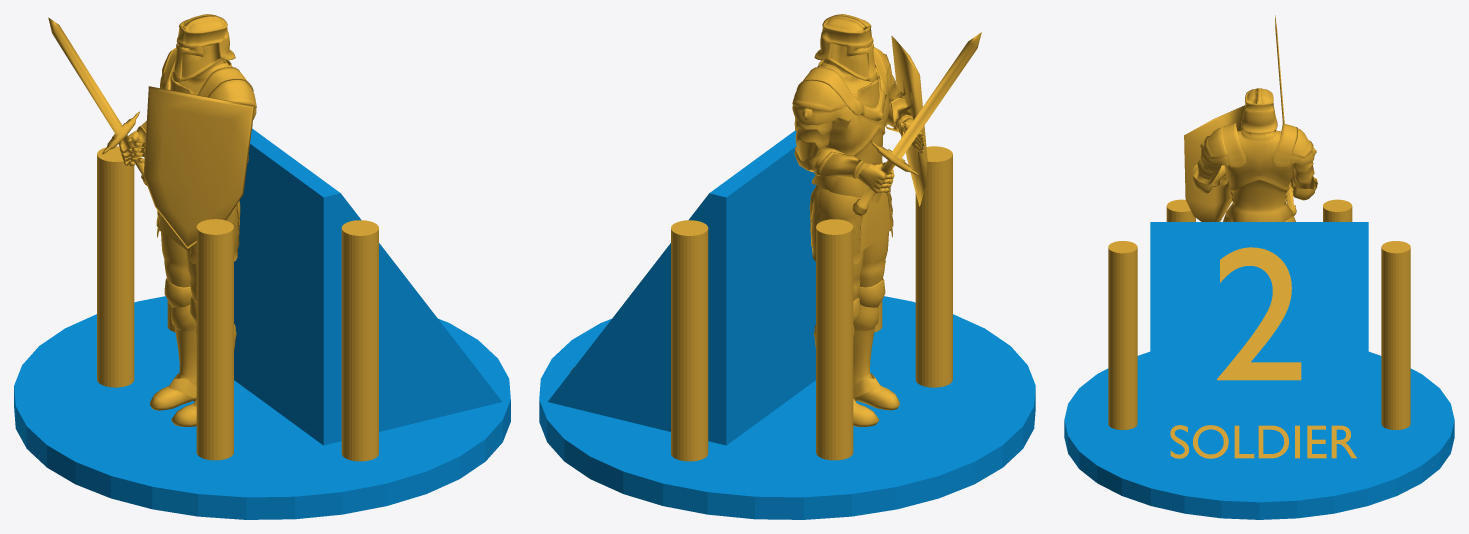
Rendered from TCSoldier2.fbx.
3 views of the same model, side by side, from view 1: azimuth 30°, elevation 25°; view 2: azimuth 150°, elevation 25°; view 3: azimuth 270°, elevation 25° (orthographic). The views are drawn at different scales.
Parts seen in each view (by area): view 1: Soldier2; view 2: Soldier2; view 3: Soldier2.
Part boxes in pixels (left/top/right/bottom): Soldier2: left=14, top=14, right=510, bottom=519; Soldier2: left=539, top=14, right=1035, bottom=519; Soldier2: left=1064, top=15, right=1454, bottom=519.
Size of the model in its own units: 180 by 176 by 180.
